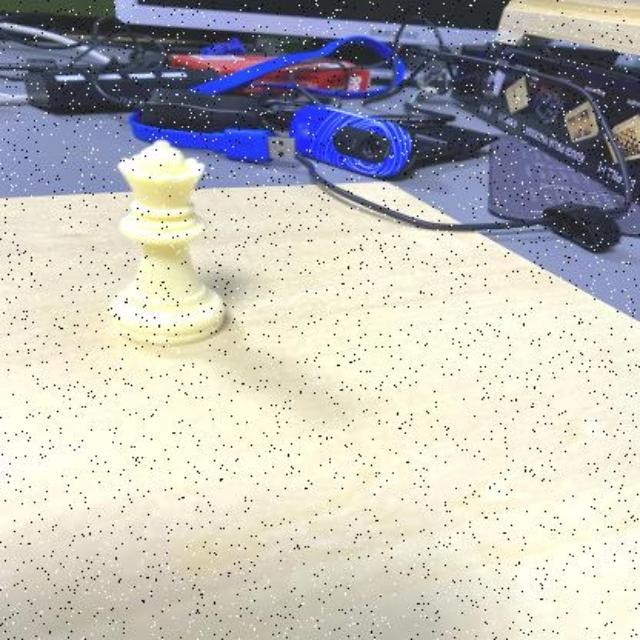white-queen: (103, 139, 229, 348)
